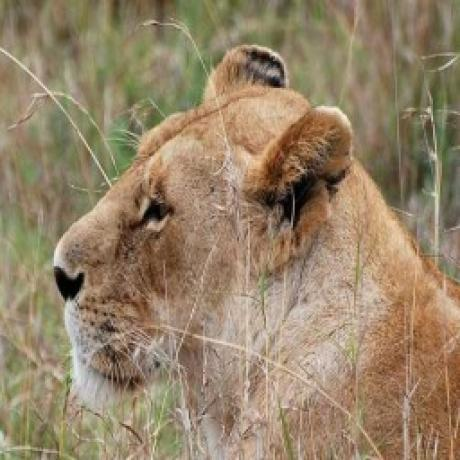Lion: (46, 30, 460, 458)
